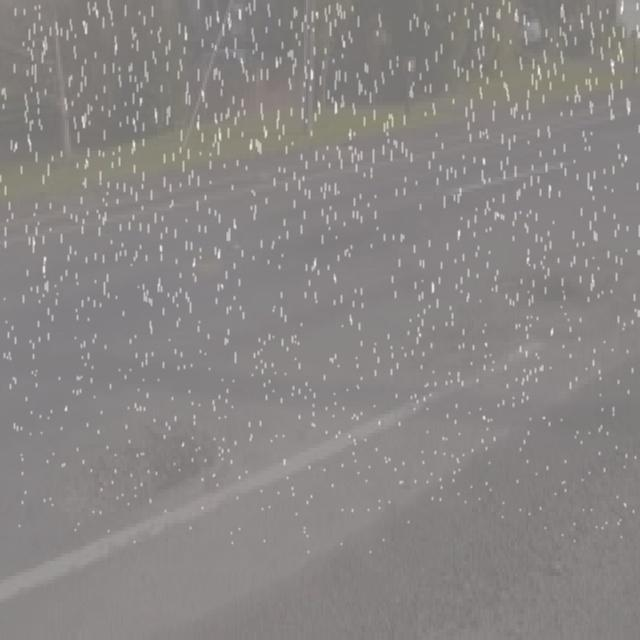Pothole: (70, 415, 206, 524)
